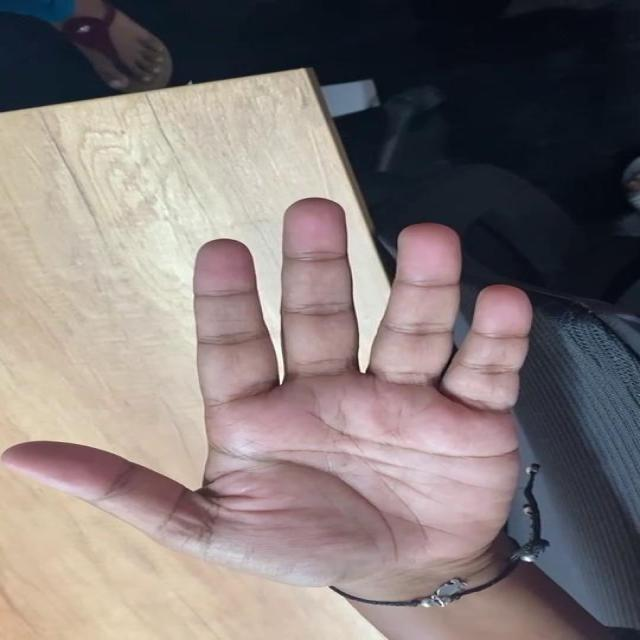no-gloves: (3, 167, 630, 603)
